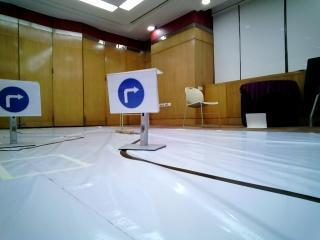right: (108, 75, 155, 111), (0, 80, 41, 116)
